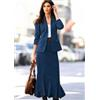giacca: (34, 14, 62, 52)
gonna: (34, 42, 64, 98)
